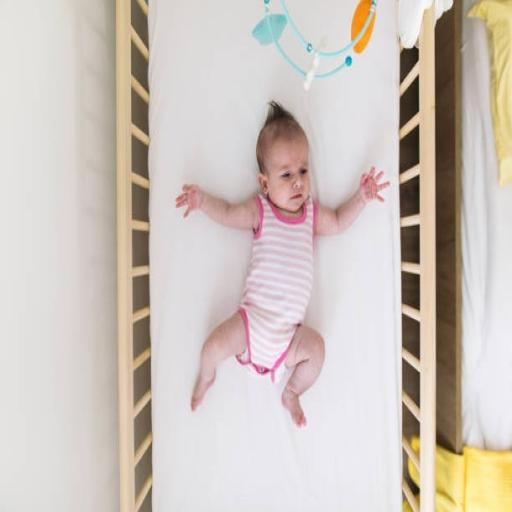baby: (176, 103, 389, 426)
crib: (397, 8, 436, 510)
